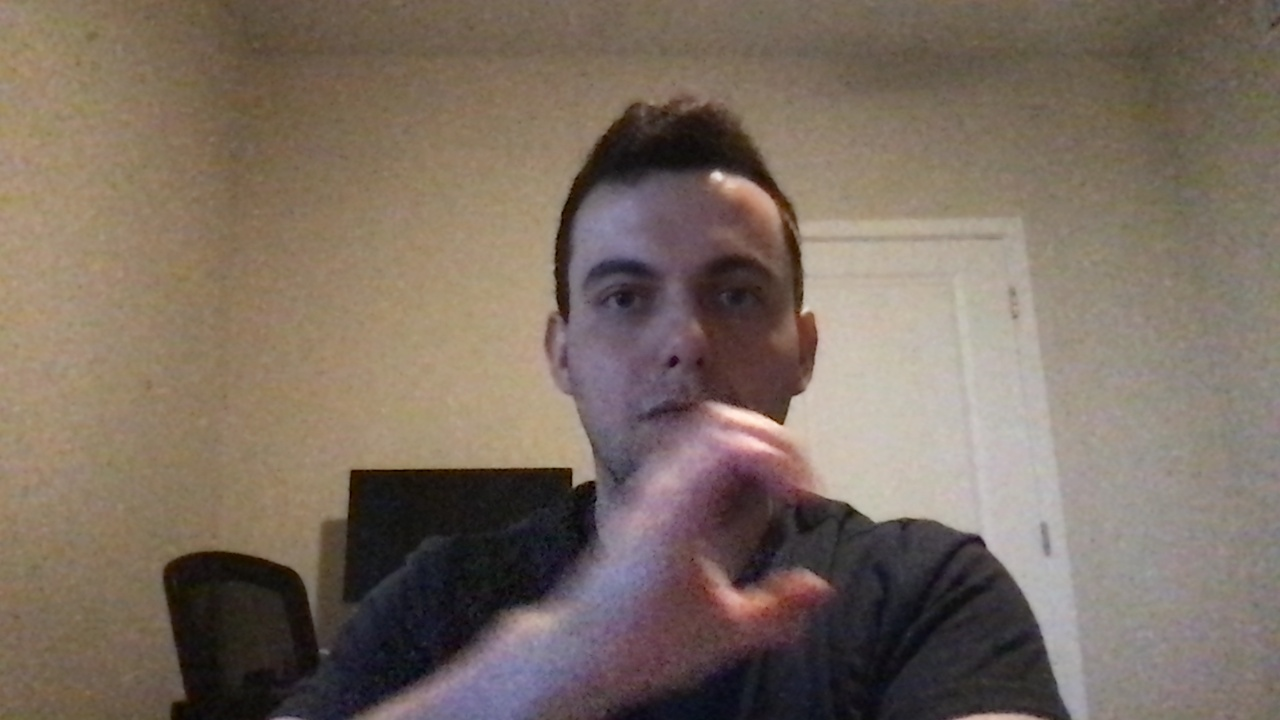c: (580, 389, 860, 685)
